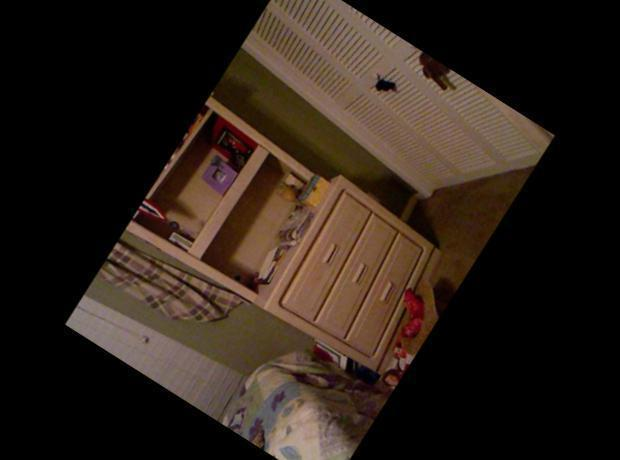Armario: (230, 0, 552, 236)
